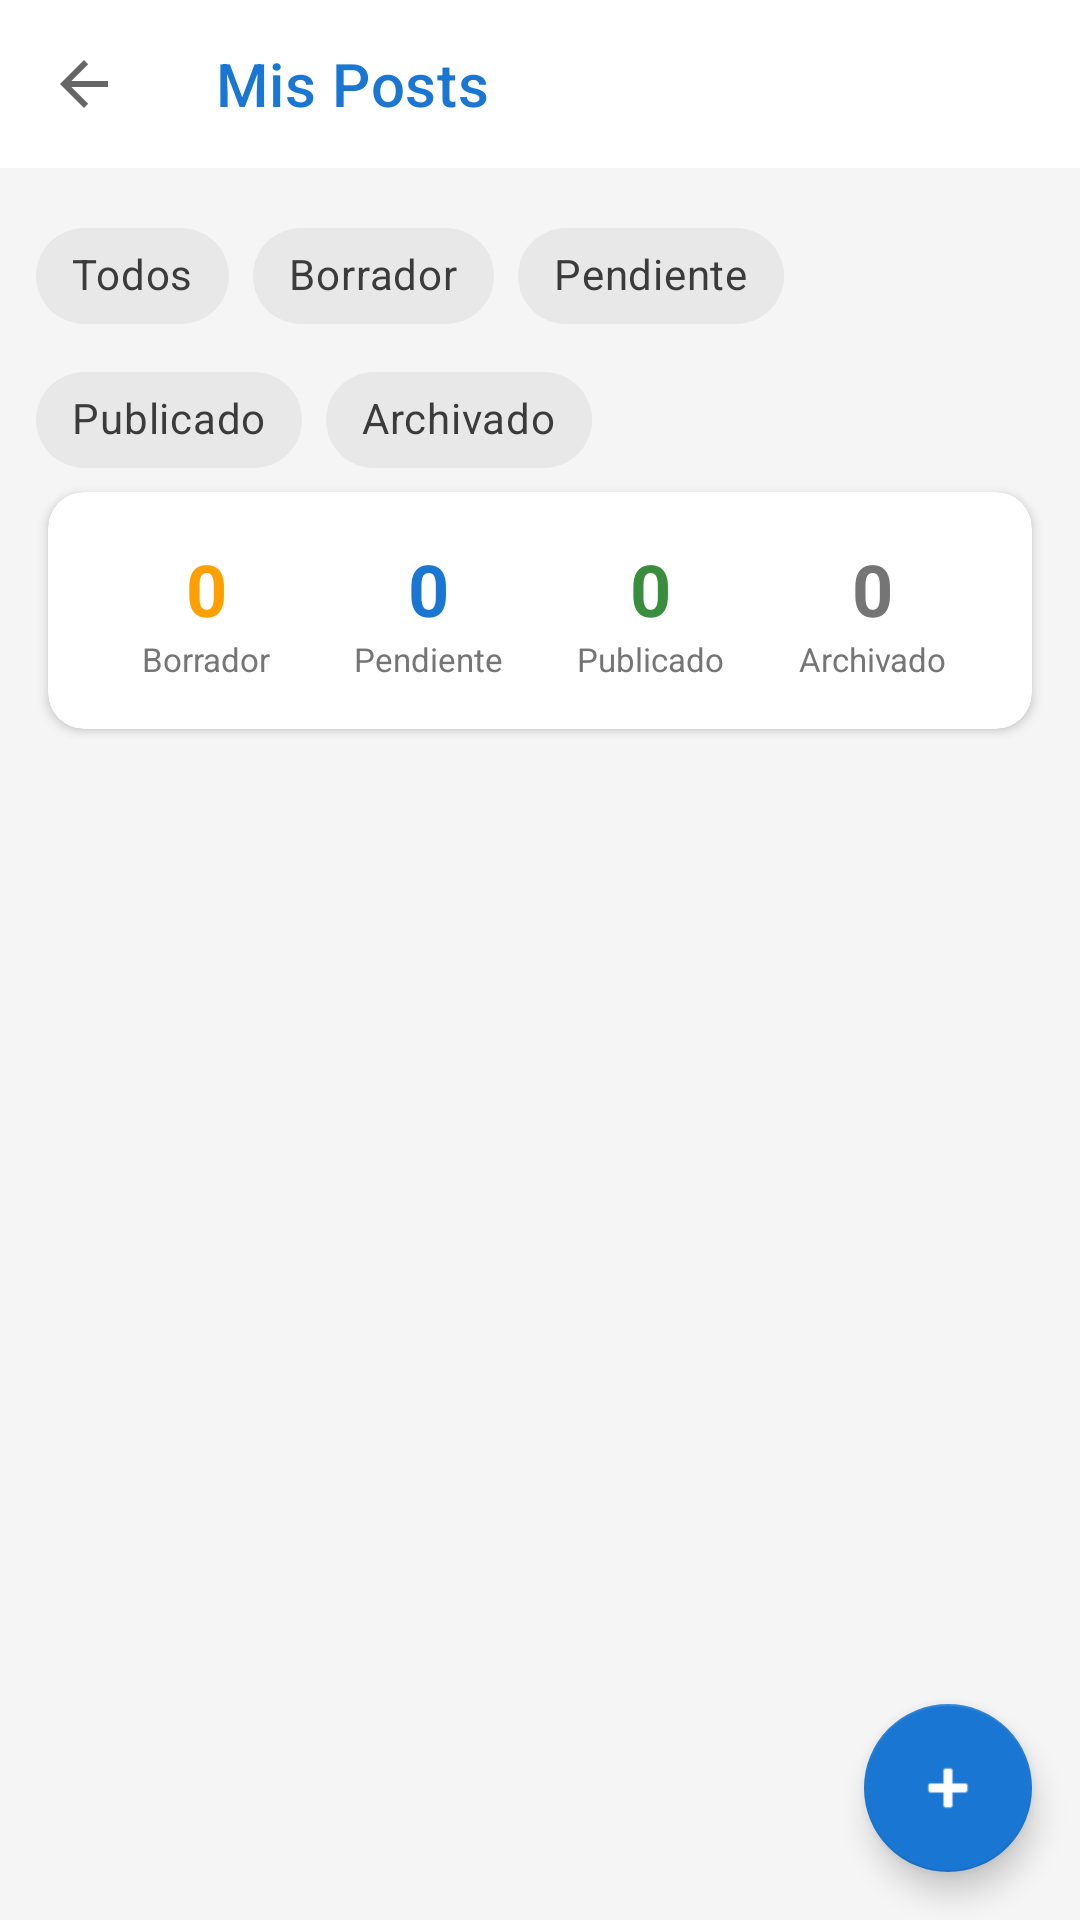

Locate icon controls on the screen. Image size 1080w x 1920h, boxes as (x1, y1, x2, y2).
Nuevo Post: (864, 1704, 1032, 1872)
